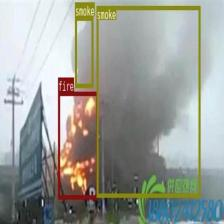fire: (58, 91, 98, 198)
smoke: (96, 6, 200, 196), (75, 16, 93, 87)
